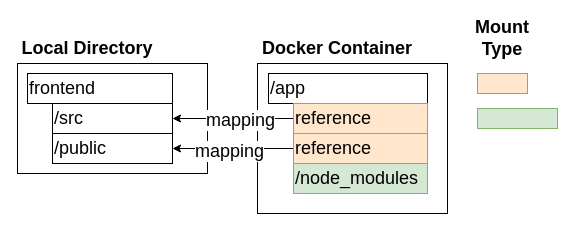
This 575x231 diagram has some shape labels left out. Each missing label, with the centre of its shape:
bind: (502,83)
volume: (517,118)
